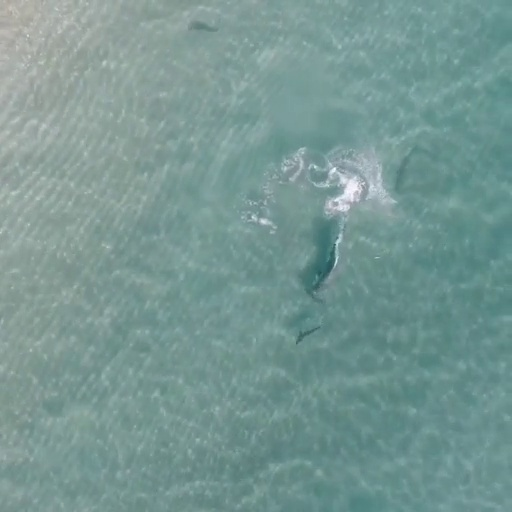shark: (308, 239, 342, 299)
